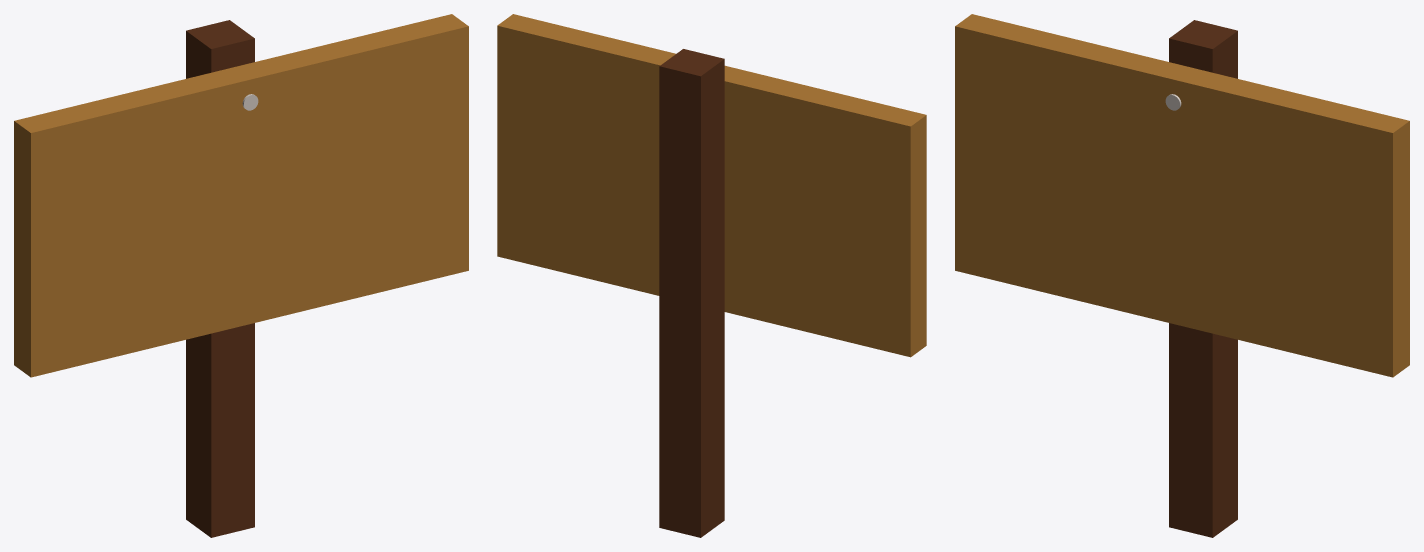
File: Wood Post.fbx
3 views of the same model, side by side, from view 1: azimuth 30°, elevation 25°; view 2: azimuth 150°, elevation 25°; view 3: azimuth 330°, elevation 25° (orthographic). The views are drawn at different scales.
Parts seen in each view (by area): view 1: Wood Post; view 2: Wood Post; view 3: Wood Post.
Part boxes in pixels (x1,y1,x2,y2): Wood Post: [14, 14, 468, 537]; Wood Post: [497, 14, 926, 537]; Wood Post: [955, 14, 1409, 537].
Bounding box in the file's own units: 150 × 160 × 25.72.
